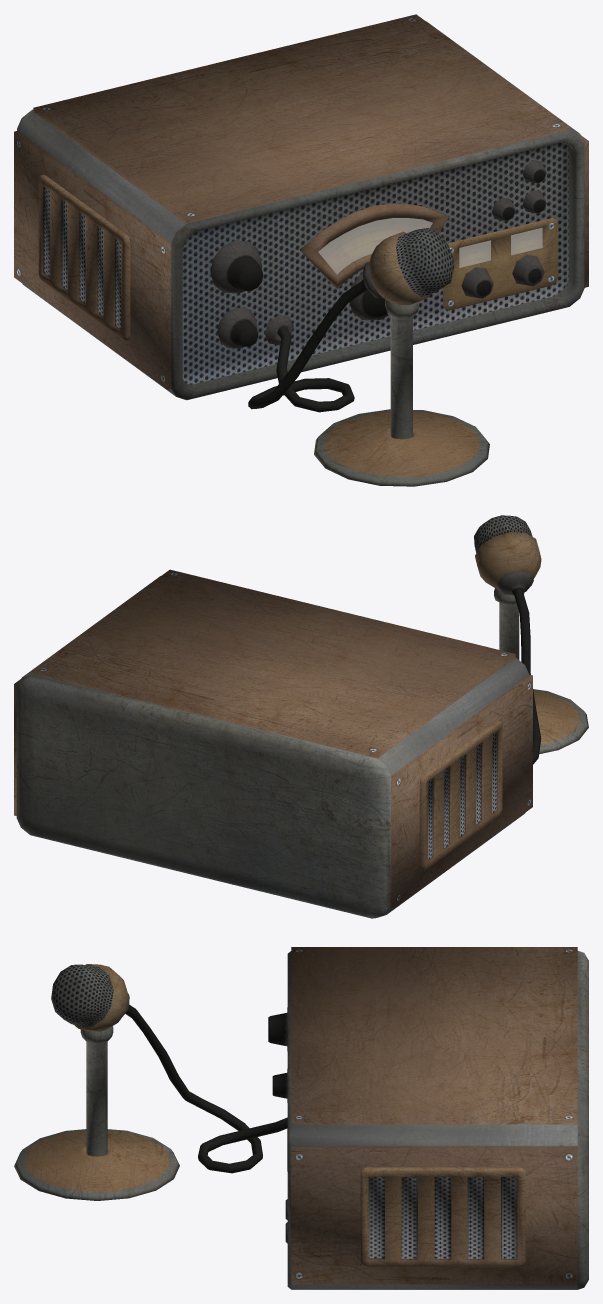
File: SMP_MOD_Ham_radio.fbx
3 renders of one model, top to bottom at view 1: azimuth 30°, elevation 25°; view 2: azimuth 150°, elevation 25°; view 3: azimuth 270°, elevation 25°, orthographic. The views are drawn at different scales.
Parts seen in each view (by area): view 1: SMP_MOD_Ham_radio; view 2: SMP_MOD_Ham_radio; view 3: SMP_MOD_Ham_radio.
Boxes of the visible parts, x1,y1,x2,y2 form: SMP_MOD_Ham_radio: (14,14,588,486); SMP_MOD_Ham_radio: (14,515,588,918); SMP_MOD_Ham_radio: (14,947,588,1289).
Bounding box in the file's own units: 0.5096 × 0.2495 × 0.6297.
